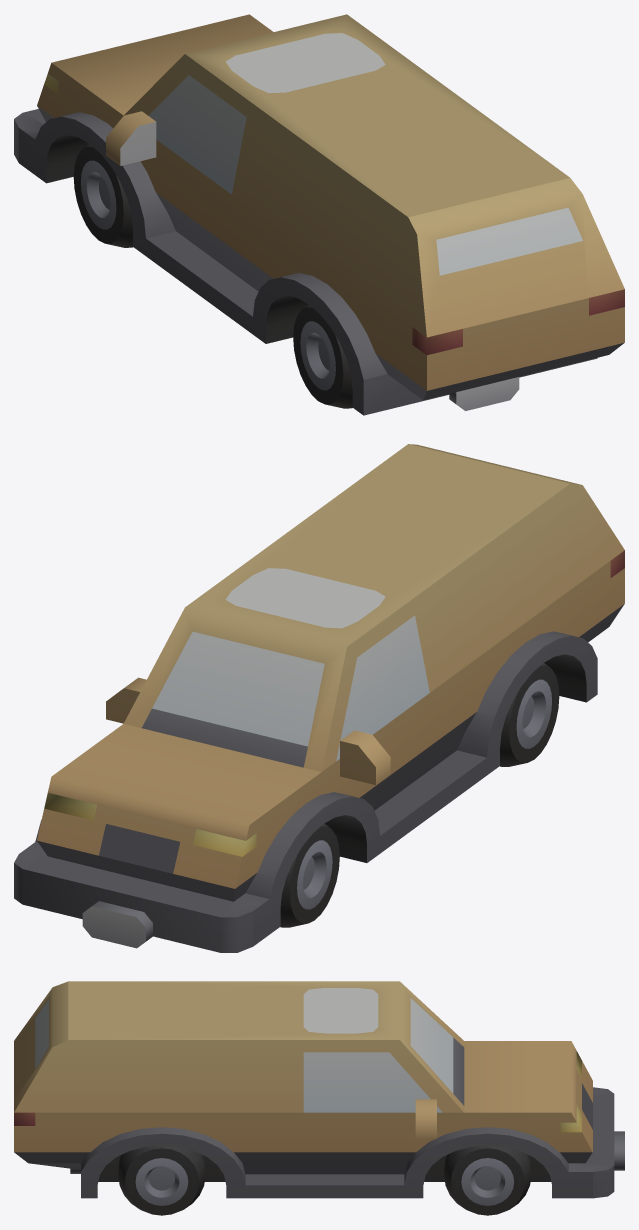
Rendered from suv_luxury.glb.
3 views of the same model, one above another, from view 1: azimuth 30°, elevation 25°; view 2: azimuth 150°, elevation 25°; view 3: azimuth 270°, elevation 25° (orthographic). The views are drawn at different scales.
Parts seen in each view (by area): view 1: body, wheel-back-left, wheel-front-left; view 2: body, wheel-front-left, wheel-back-left; view 3: body, wheel-back-right, wheel-front-right.
Part boxes in pixels (x1,y1,x2,y2): body: (14, 14, 624, 415); wheel-back-left: (293, 304, 352, 408); wheel-front-left: (73, 143, 132, 247); body: (14, 444, 624, 952); wheel-front-left: (280, 823, 339, 927); wheel-back-left: (500, 663, 559, 766); body: (14, 981, 624, 1198); wheel-back-right: (118, 1145, 205, 1215); wheel-front-right: (444, 1145, 531, 1215).
Size of the model in its own units: 1.9 by 1.56 by 5.02.
1 material, 1 textured.
